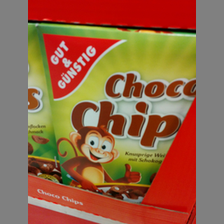cereal: (36, 23, 197, 204)
